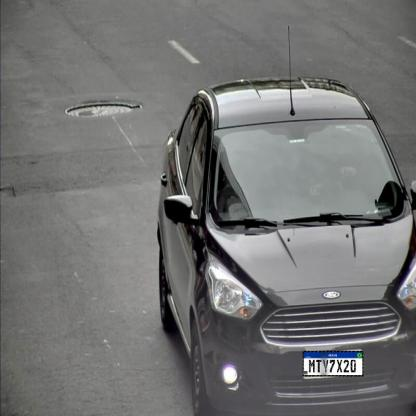PlacaM: (302, 351, 364, 376)
